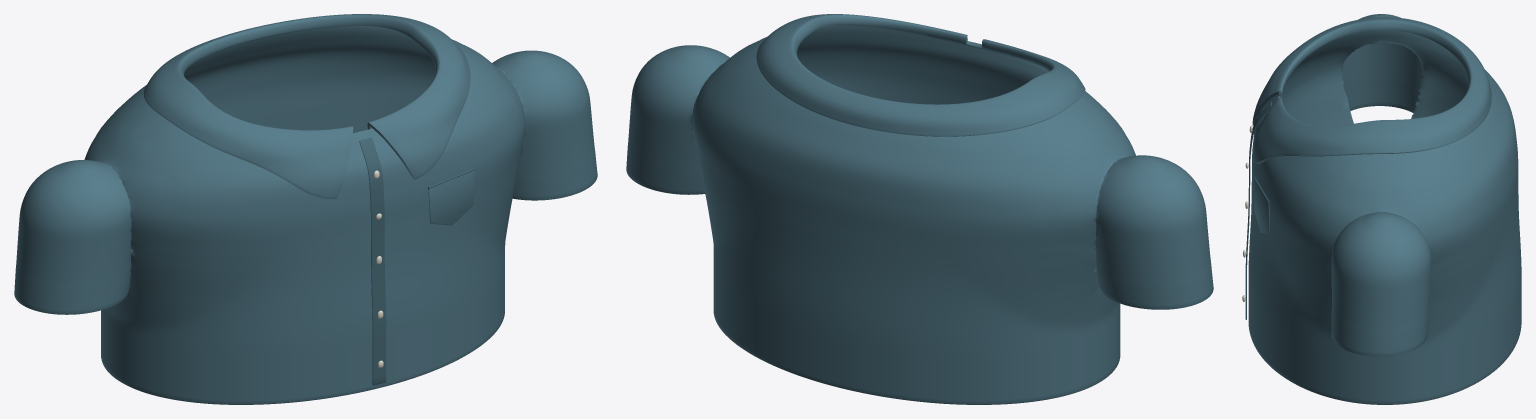
The model's file is Masculine-buttonup-top.glb.
3 views of the same model, side by side, from view 1: azimuth 30°, elevation 25°; view 2: azimuth 150°, elevation 25°; view 3: azimuth 270°, elevation 25° (orthographic). The views are drawn at different scales.
Visible parts, largest first — view 1: Clothing / joined buttonup186, Button-up / closed placket, Button-up / chest pocket; view 2: Clothing / joined buttonup186; view 3: Clothing / joined buttonup186, Button-up / chest pocket, Button-up / closed placket.
Part boxes in pixels (x1,y1,x2,y2): Clothing / joined buttonup186: [14, 14, 597, 404]; Button-up / closed placket: [359, 137, 386, 385]; Button-up / chest pocket: [428, 170, 474, 225]; Clothing / joined buttonup186: [626, 14, 1213, 404]; Clothing / joined buttonup186: [1248, 14, 1521, 404]; Button-up / chest pocket: [1254, 180, 1269, 233]; Button-up / closed placket: [1245, 102, 1271, 319].
Bounding box in the file's own units: 1.01 × 0.4715 × 0.4724.
